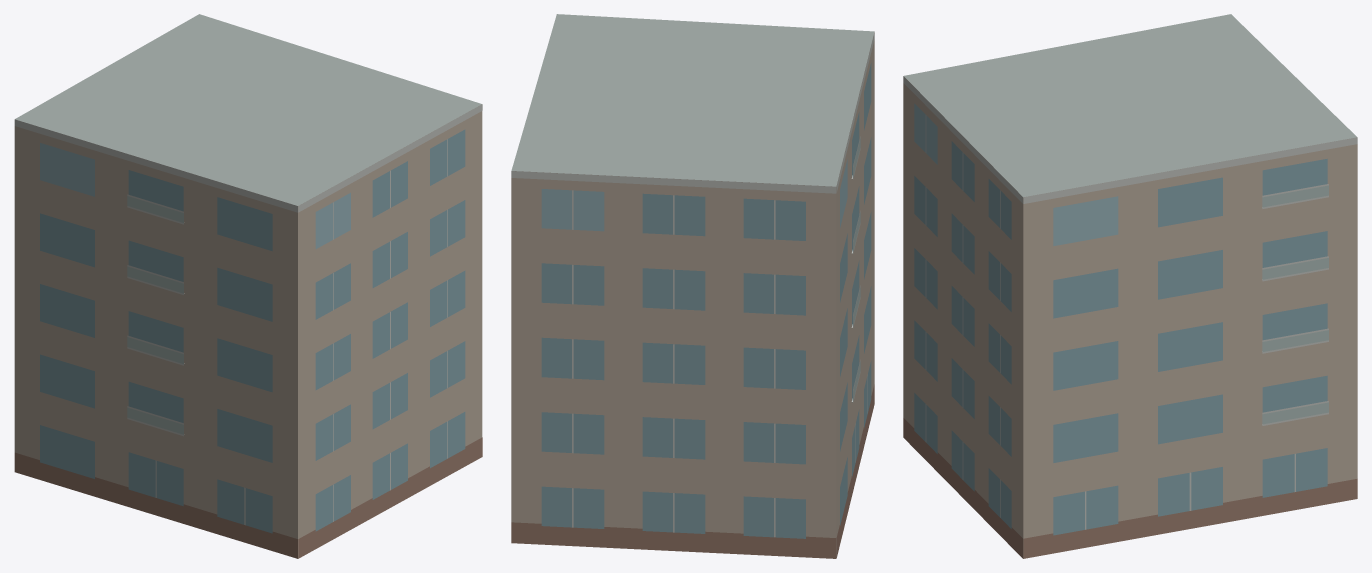
The model's file is survey-upis-32737258.glb.
3 renders of one model, left to right at view 1: azimuth 30°, elevation 25°; view 2: azimuth 150°, elevation 25°; view 3: azimuth 270°, elevation 25°, orthographic. The views are drawn at different scales.
Visible parts, largest first — view 1: survey-upis-32737258.tmp; view 2: survey-upis-32737258.tmp; view 3: survey-upis-32737258.tmp.
Boxes of the visible parts, bbox=[...] form: survey-upis-32737258.tmp: bbox=[14, 14, 482, 558]; survey-upis-32737258.tmp: bbox=[511, 14, 874, 558]; survey-upis-32737258.tmp: bbox=[903, 14, 1357, 558].
Bounding box in the file's own units: 14.03 × 12.9 × 14.69.
